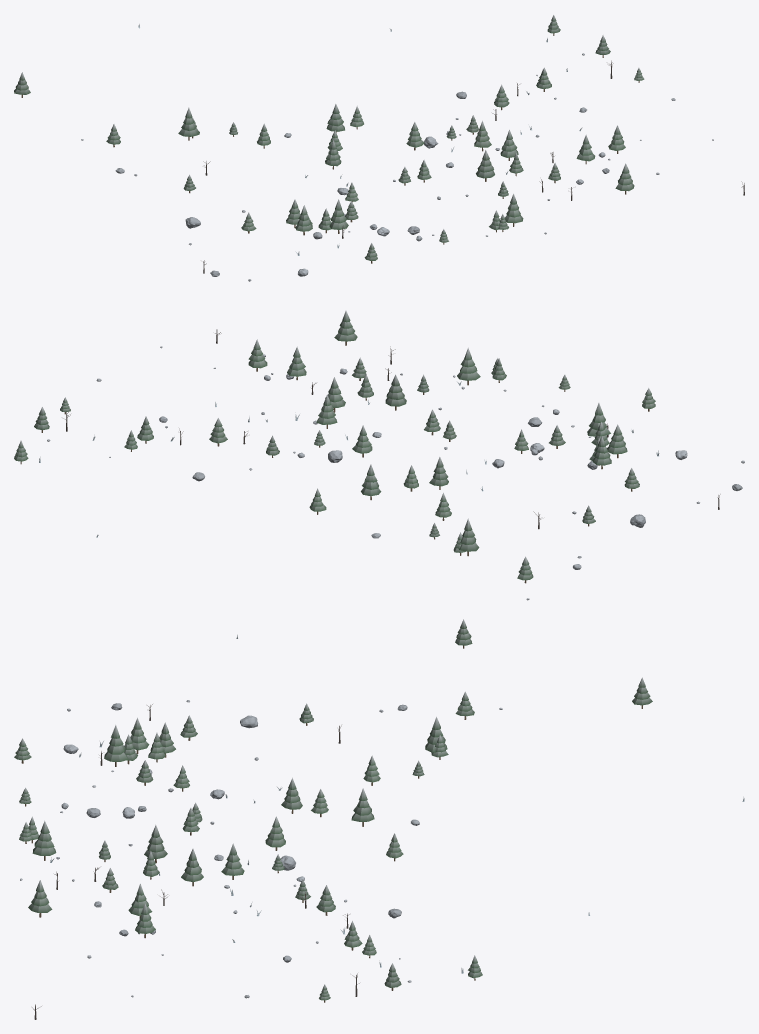
Rendered from frost_land_scatter_c15_10.glb.
3 views of the same model, one above another, from view 1: azimuth 30°, elevation 25°; view 2: azimuth 150°, elevation 25°; view 3: azimuth 270°, elevation 25° (orthographic). The views are drawn at different scales.
Visible parts, largest first — view 1: frost_land_scatter_c15_10; view 2: frost_land_scatter_c15_10; view 3: frost_land_scatter_c15_10.
Part boxes in pixels (<box>): frost_land_scatter_c15_10: <box>14,15,744,281</box>; frost_land_scatter_c15_10: <box>14,310,744,648</box>; frost_land_scatter_c15_10: <box>14,677,744,1019</box>.
Size of the model in its own units: 251 by 29.17 by 255.
